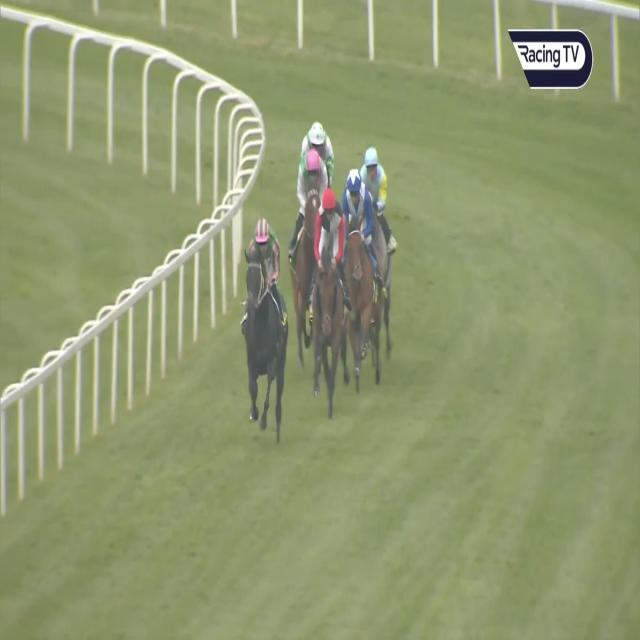horses-racing: (245, 212, 293, 432), (310, 187, 349, 381), (342, 166, 376, 376), (294, 148, 322, 306), (299, 124, 342, 184), (356, 150, 392, 208)
